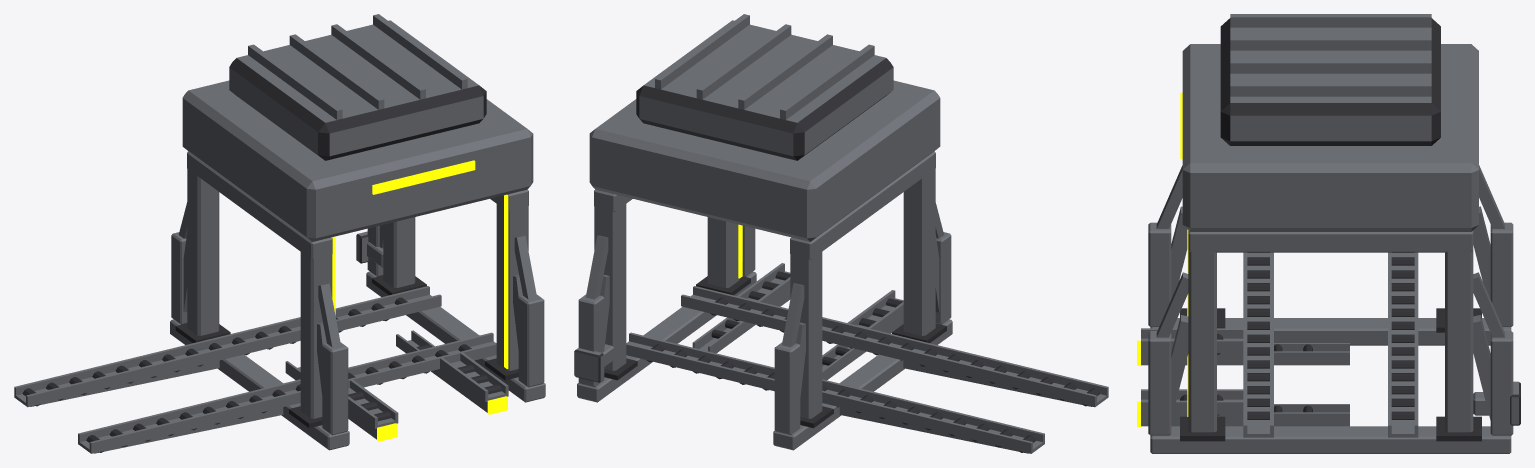
The model's file is LoaderS2.fbx.
3 renders of one model, left to right at view 1: azimuth 30°, elevation 25°; view 2: azimuth 150°, elevation 25°; view 3: azimuth 270°, elevation 25°, orthographic. The views are drawn at different scales.
Parts seen in each view (by area): view 1: Frame, Mechanism, Front Rails; view 2: Frame, Mechanism, Front Rails; view 3: Mechanism, Frame, Front Rails.
Part boxes in pixels (bbox=[...]): Frame: bbox=[14, 151, 545, 453]; Mechanism: bbox=[182, 14, 533, 241]; Front Rails: bbox=[285, 330, 507, 441]; Frame: bbox=[574, 151, 1108, 453]; Mechanism: bbox=[589, 14, 940, 241]; Front Rails: bbox=[692, 290, 903, 380]; Mechanism: bbox=[1180, 14, 1478, 231]; Frame: bbox=[1141, 165, 1520, 453]; Front Rails: bbox=[1137, 340, 1349, 426].
Size of the model in its own units: 2.89 by 2 by 2.02.
